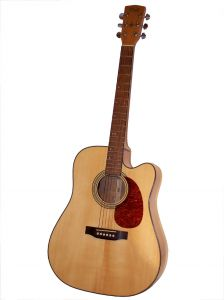guitar: (47, 3, 171, 298)
